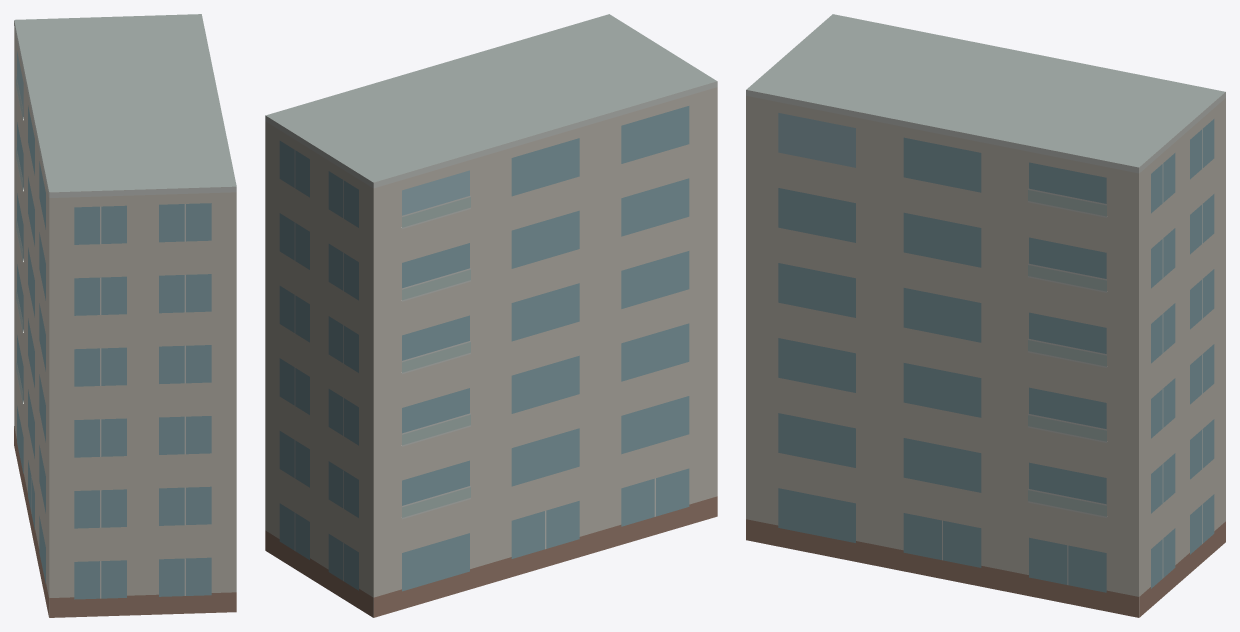
The model's file is survey-upis-32629506.glb.
3 views of the same model, side by side, from view 1: azimuth 30°, elevation 25°; view 2: azimuth 150°, elevation 25°; view 3: azimuth 270°, elevation 25° (orthographic). The views are drawn at different scales.
Visible parts, largest first — view 1: survey-upis-32629506.tmp; view 2: survey-upis-32629506.tmp; view 3: survey-upis-32629506.tmp.
Boxes of the visible parts, bbox=[...] form: survey-upis-32629506.tmp: bbox=[14, 14, 236, 617]; survey-upis-32629506.tmp: bbox=[265, 14, 717, 617]; survey-upis-32629506.tmp: bbox=[746, 14, 1225, 617].
Bounding box in the file's own units: 13.39 × 18.3 × 17.68.
